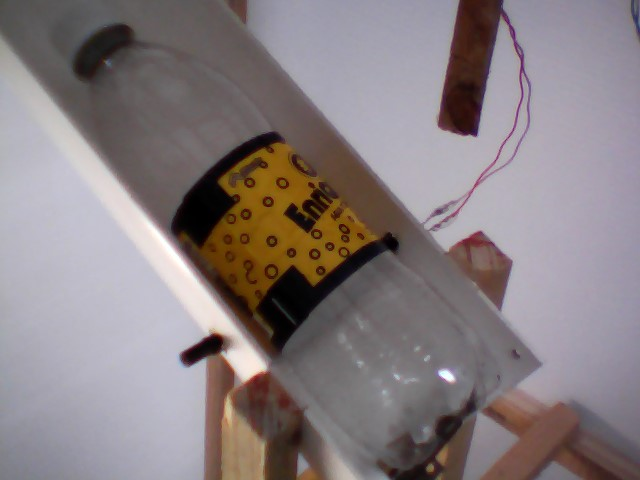plastico: (48, 2, 511, 478)
